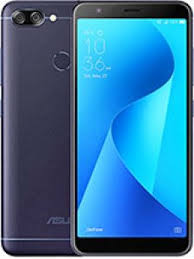asus: (1, 1, 194, 255), (69, 1, 193, 257), (1, 1, 73, 257)
